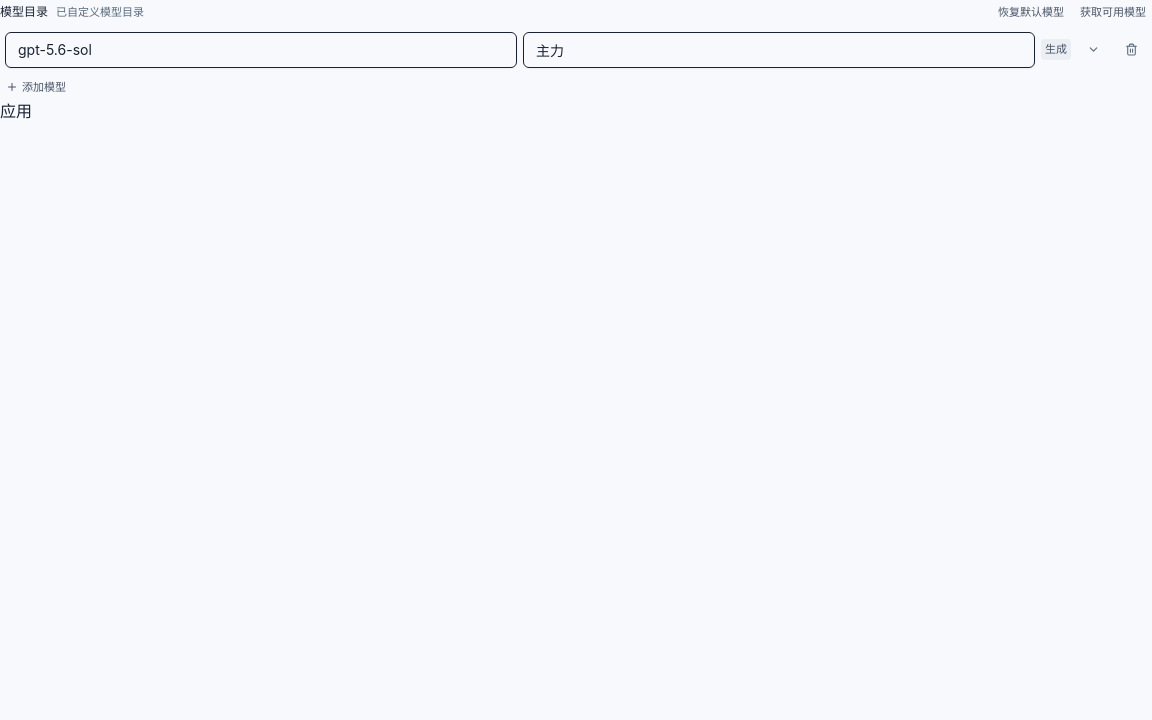
Test case: ModelCatalogEditor「获取可用模型」入口（v3 §5，T8） › 采纳**已存在**的模型 → 保留用户值（容量/显示名不动），只补齐缺失字段（inputTypes）
Click the button "获取可用模型" at (1113, 12), box [1074,0,1151,24]
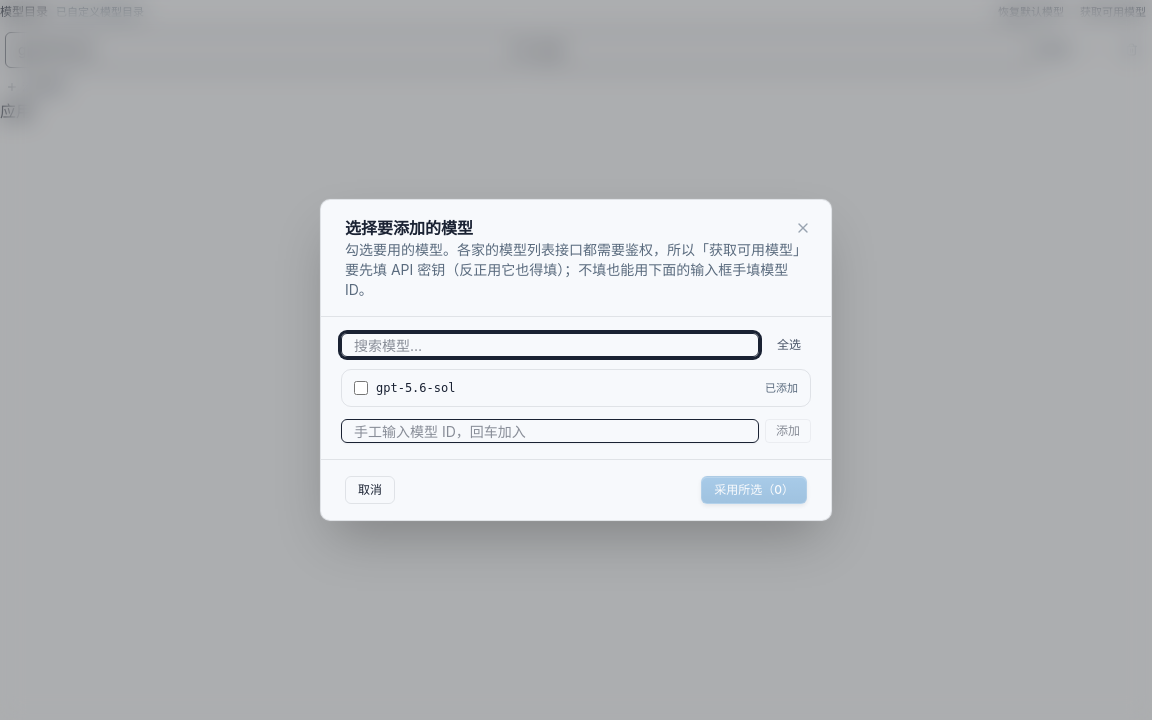
Click the button "全选" at (789, 345), box [767,333,811,357]
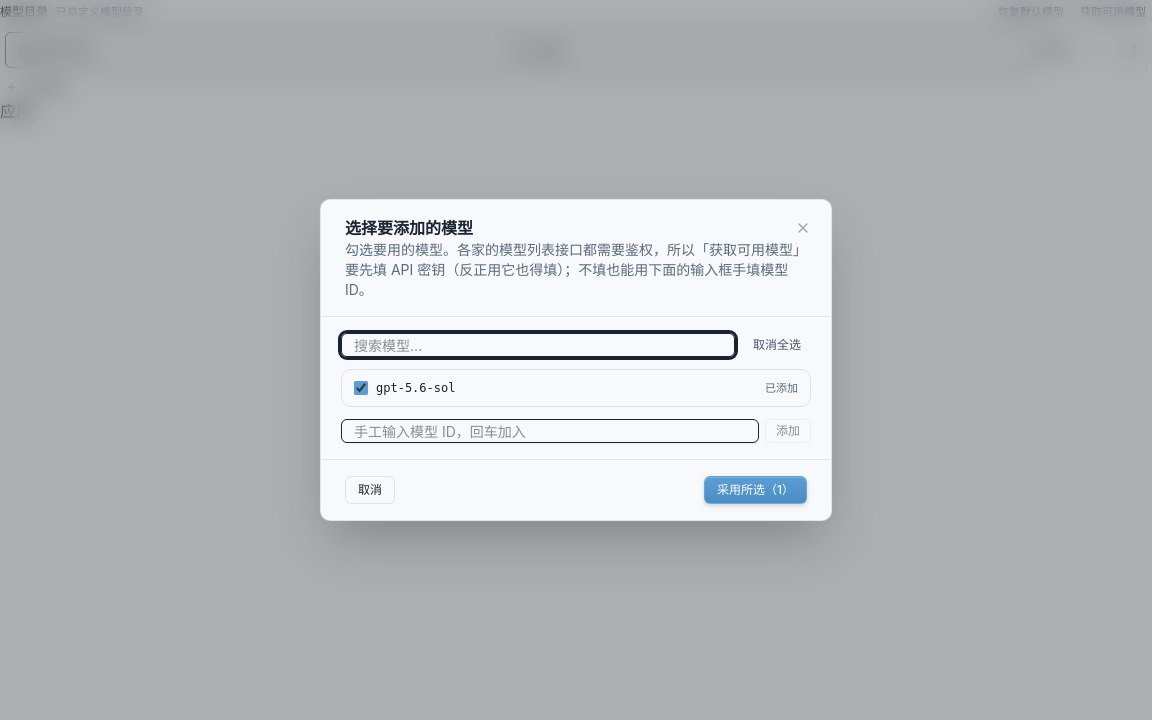
Click the button "采用所选（1）" at (756, 490), box [704,476,807,504]
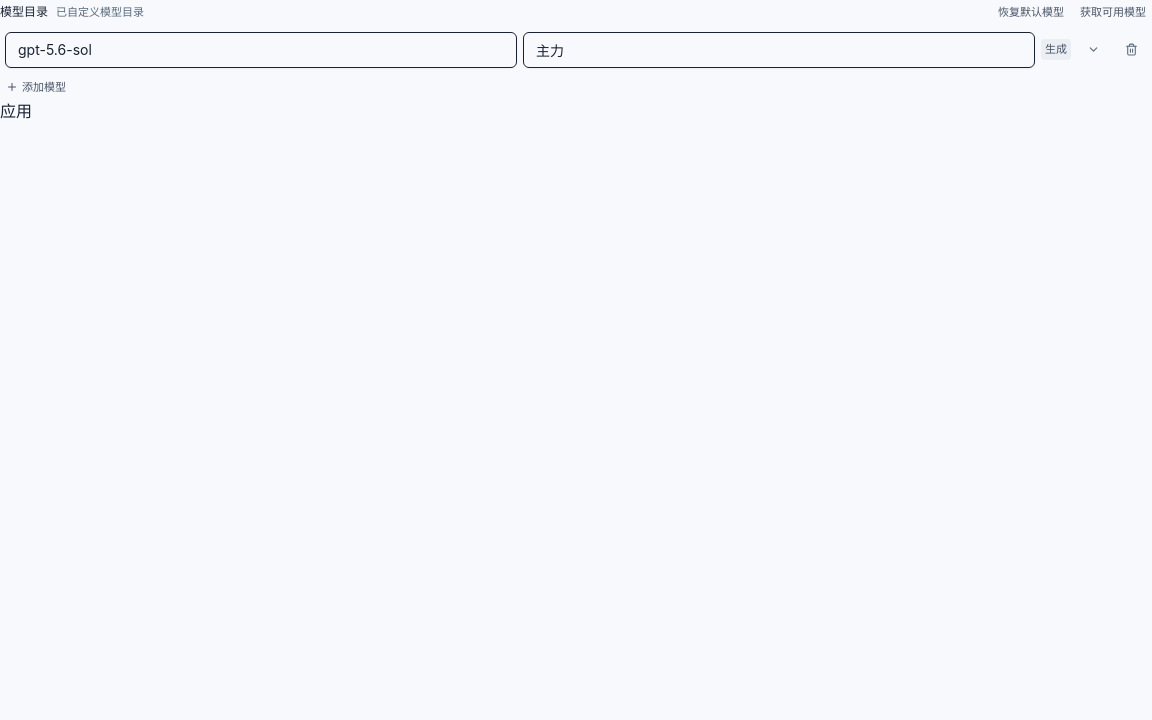
Click the button named "模型选项 1" at (1093, 50), box [1077,34,1109,66]
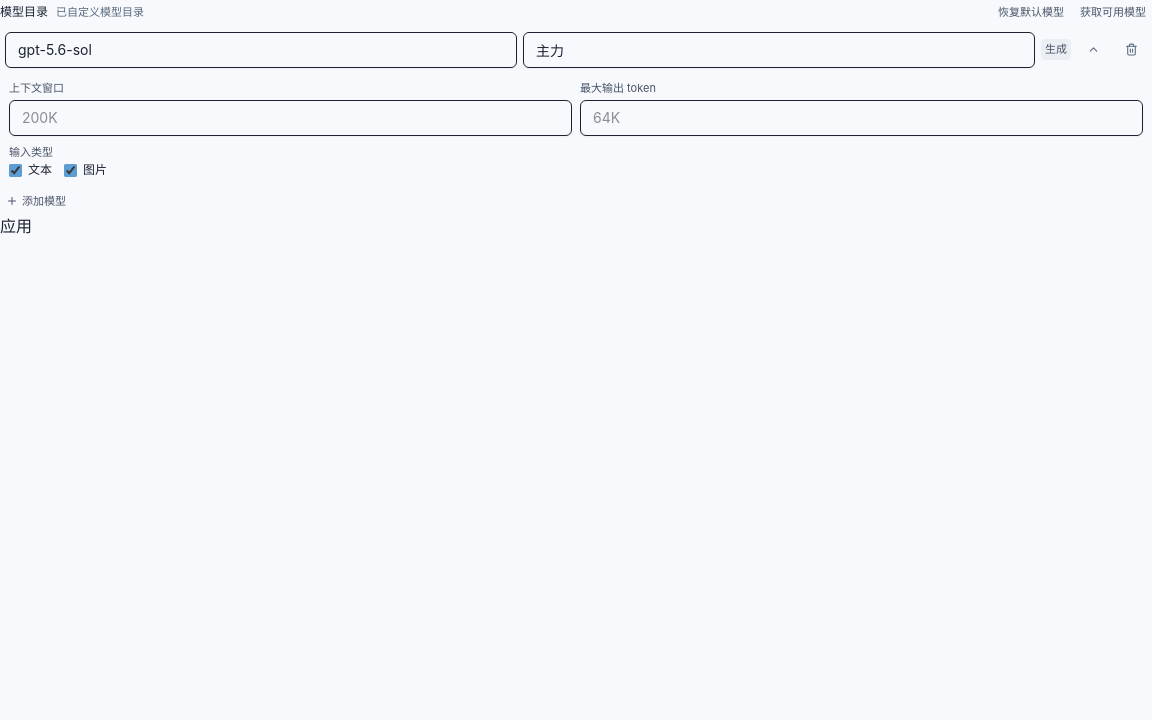
Result: the checkbox named "图片 1" is checked at [64,164,77,176]
